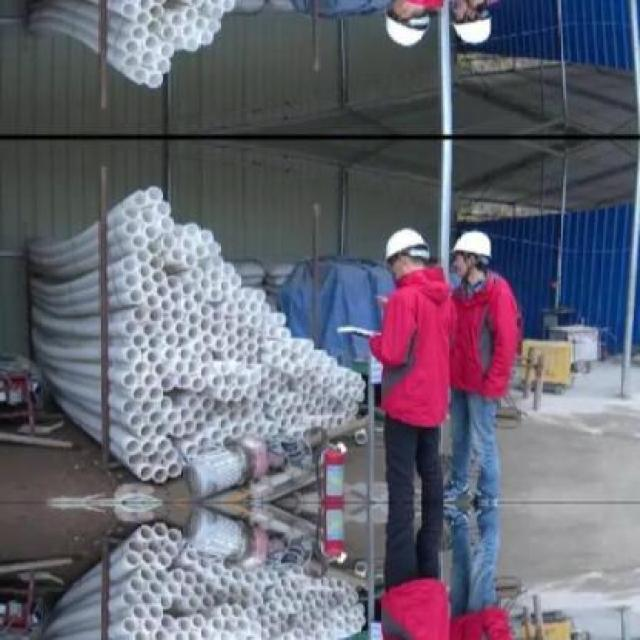helmet: (382, 226, 428, 278), (381, 0, 429, 49), (450, 227, 492, 280), (449, 0, 494, 48)
